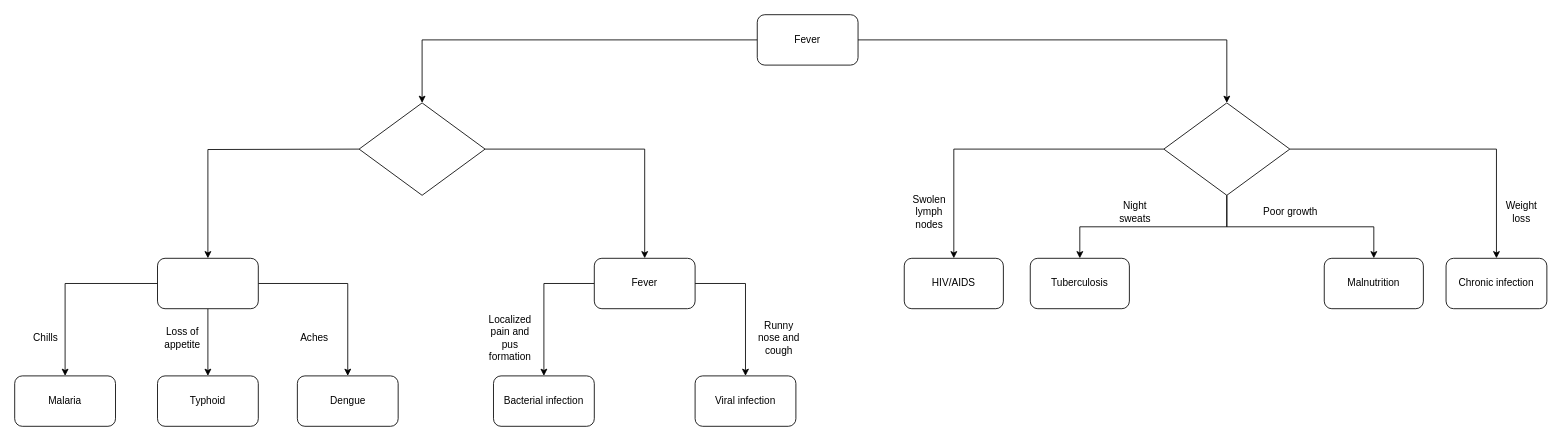
This 1562x441 diagram has some shape labels left out. The centre of each missing label's shape, as x and y in pixels:
"High Fever" belongs at (x=207, y=283).
"Less than one week" belongs at (x=421, y=148).
"More than 1 week" belongs at (x=1226, y=148).
